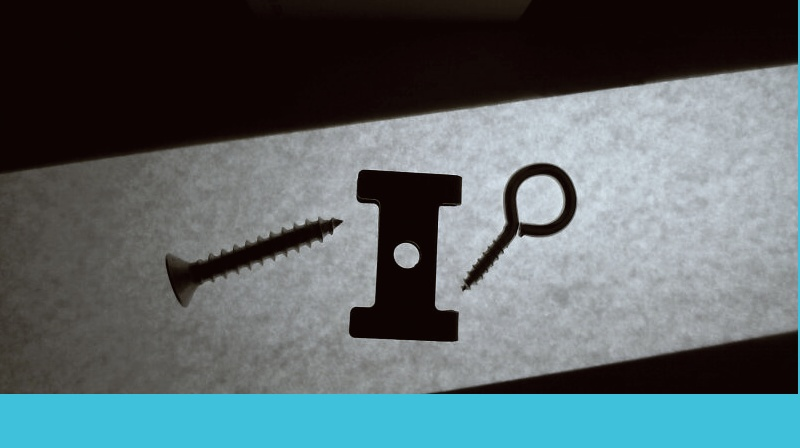O001: (462, 160, 580, 292)
O002: (346, 169, 468, 342)
S001: (163, 213, 347, 307)
